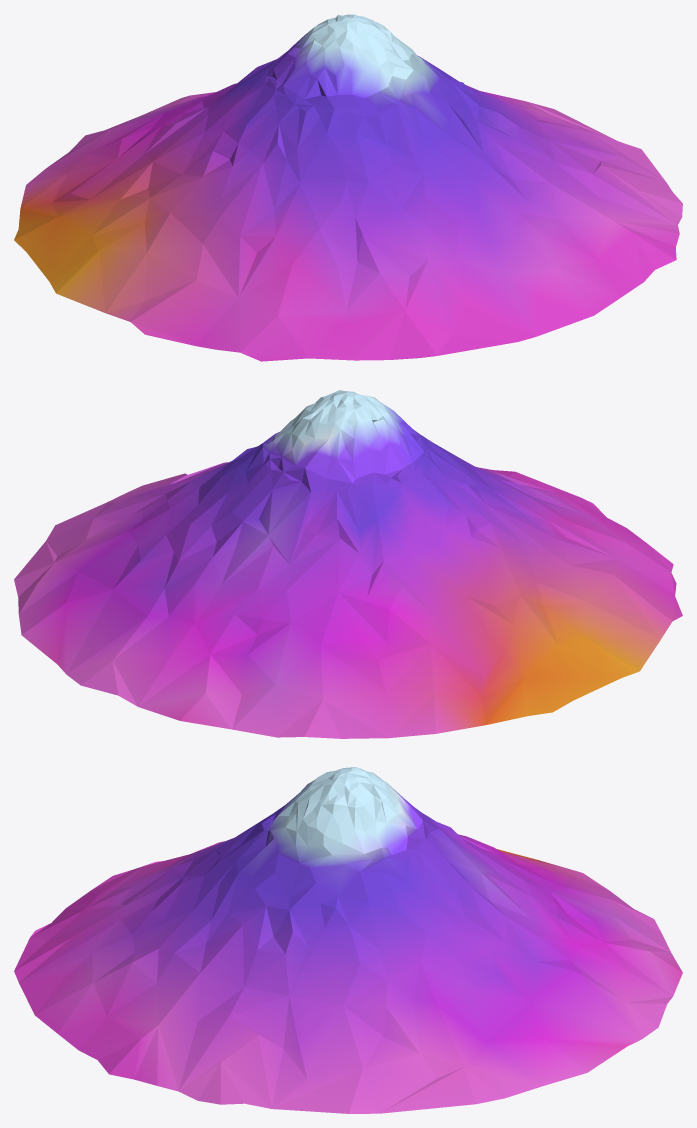
Rendered from MontFuji001.fbx.
3 renders of one model, top to bottom at view 1: azimuth 30°, elevation 25°; view 2: azimuth 150°, elevation 25°; view 3: azimuth 270°, elevation 25°, orthographic.
Parts seen in each view (by area): view 1: fuji; view 2: fuji; view 3: fuji.
Boxes of the visible parts, x1=… form: fuji: x1=14, y1=14, x2=682, y2=361; fuji: x1=14, y1=390, x2=682, y2=738; fuji: x1=14, y1=767, x2=682, y2=1113.
Size of the model in its own units: 2398 by 810 by 2390.
